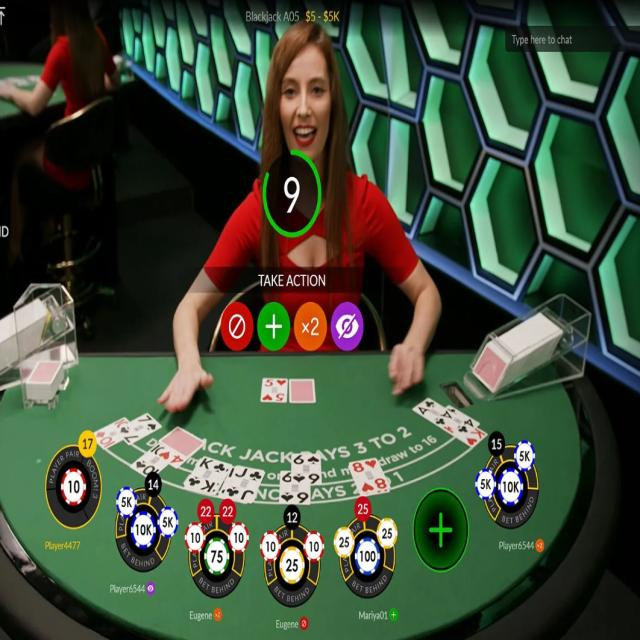Card-10: (131, 441, 169, 480), (91, 416, 130, 451)
Card-4: (439, 404, 480, 436), (159, 447, 188, 469)
Card-5: (261, 378, 287, 402)
Card-6: (279, 470, 311, 503), (291, 453, 321, 486)
Card-7: (119, 412, 162, 446)
Card-8: (349, 458, 389, 496)
Card-A: (413, 396, 445, 429)
Card-J: (218, 463, 265, 503)
Card-K: (184, 454, 230, 496), (442, 423, 488, 448)
